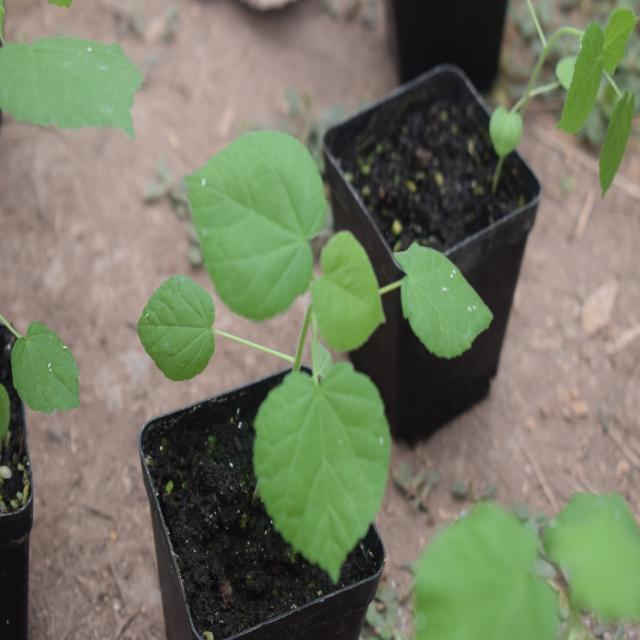abutilon theophrasti: (139, 117, 475, 576)
